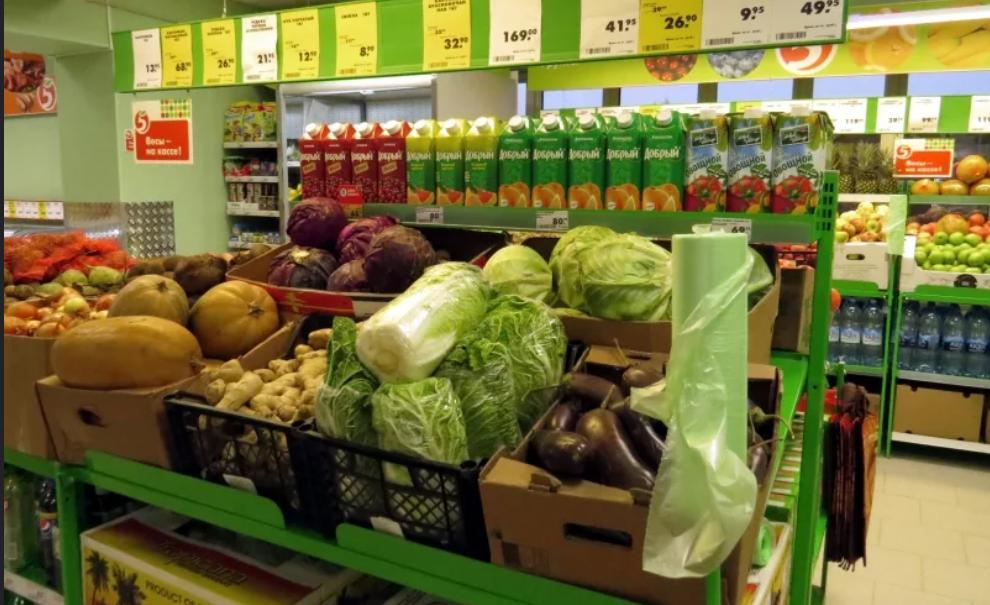beet: (130, 252, 259, 296)
butternut squash: (50, 270, 278, 396)
cabbage: (480, 226, 674, 322)
eggplant: (534, 354, 674, 492)
ginger: (210, 324, 338, 424)
onion: (2, 292, 118, 339)
